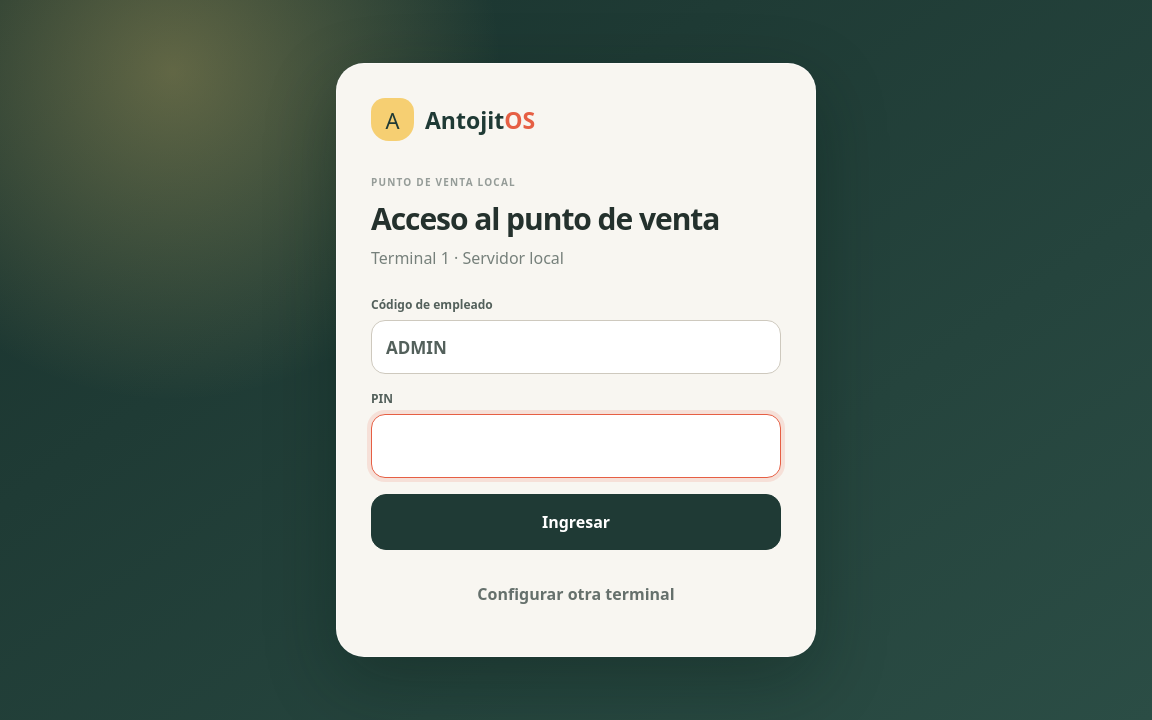
POS conectado › oculta la administración de precios a sesiones sin permiso de catálogo
This screenshot has width=1152, height=720.
Type "1234" into the password field labelled "PIN".
click(576, 446); type("1234")  # box [371,414,781,478]
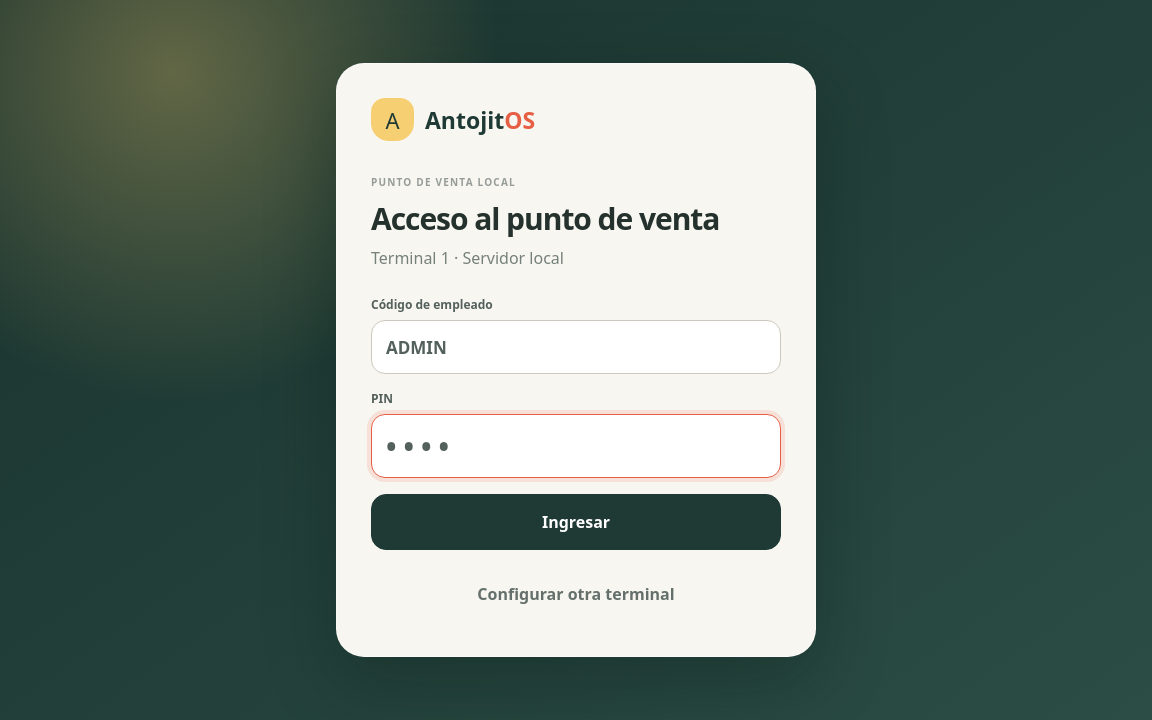
Click the button "Ingresar".
click(576, 522)  # box [371,494,781,550]
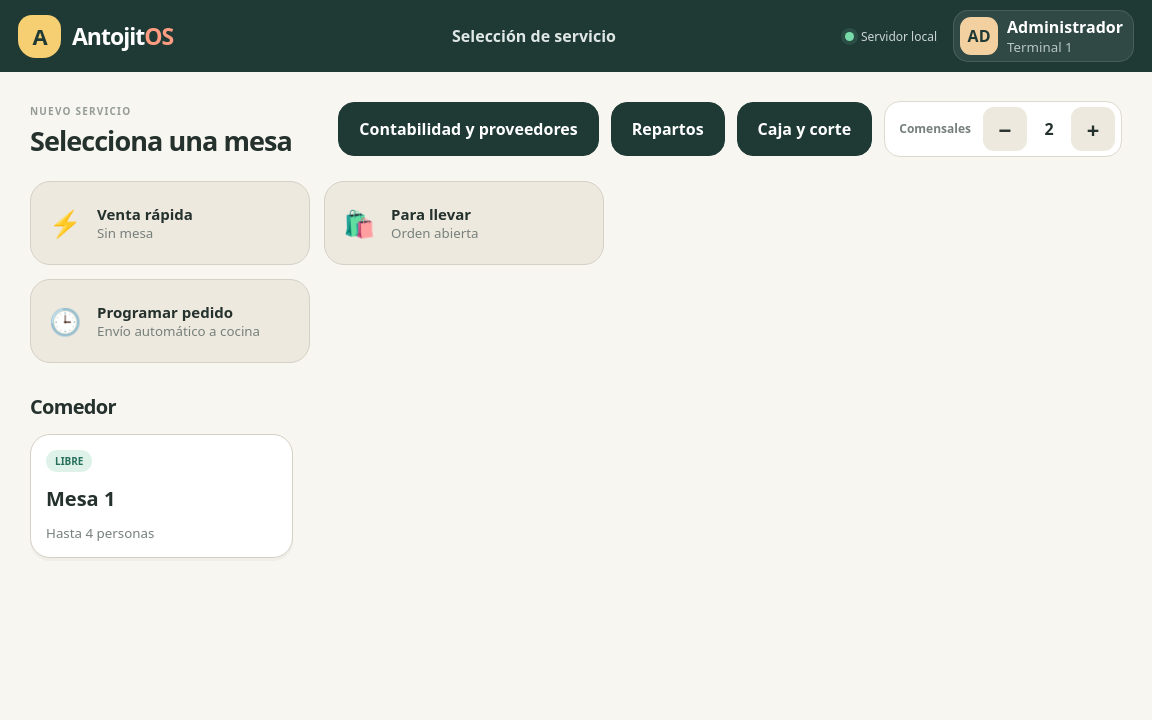
Expected: the heading "Selecciona una mesa" is shown, [30,122,292,159]
Click the button with aria-label "Mesa 1, libre".
click(69, 461)  # box [30,434,292,558]
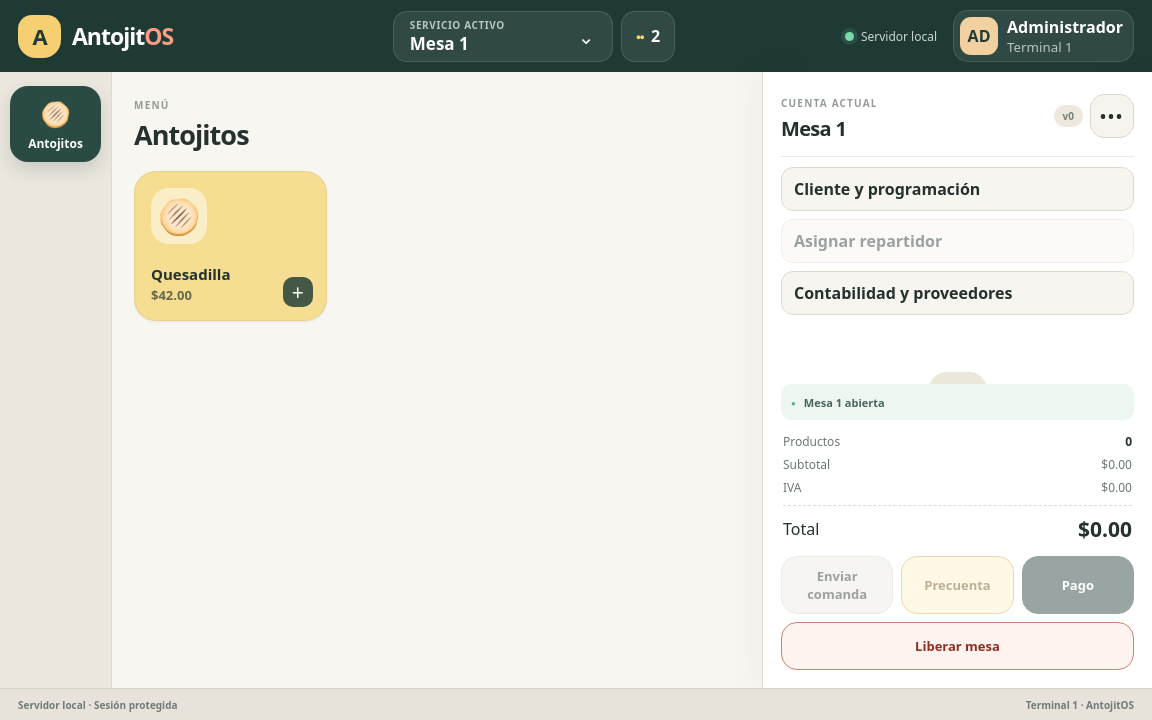
Expected: the button with aria-label "agregar quesadilla" is shown, [134,171,327,321]
